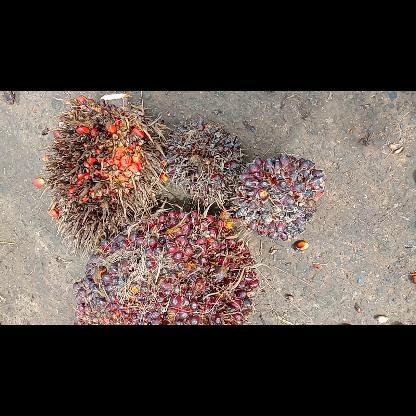TBS abnormal: (228, 152, 326, 242), (160, 115, 244, 209)
TBS masak: (70, 206, 260, 324)
Terlalu masak: (44, 94, 164, 260)
